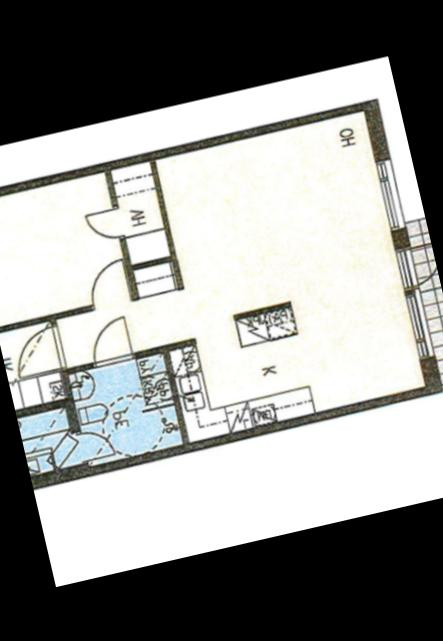door: (5, 322, 66, 380), (82, 312, 138, 370), (81, 254, 134, 310), (395, 239, 440, 291), (82, 202, 128, 247)
window: (369, 152, 409, 234), (400, 283, 437, 366)
